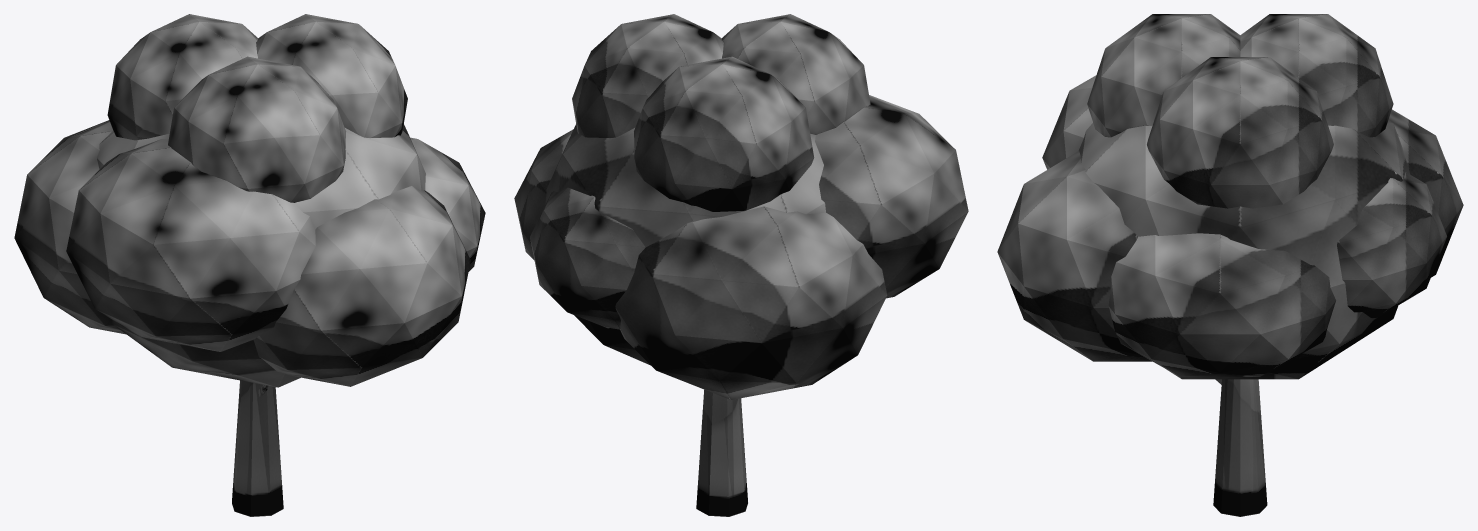
Rendered from tree_oak_xl.glb.
3 views of the same model, side by side, from view 1: azimuth 30°, elevation 25°; view 2: azimuth 150°, elevation 25°; view 3: azimuth 270°, elevation 25° (orthographic).
Visible parts, largest first — view 1: tree_oak_xl; view 2: tree_oak_xl; view 3: tree_oak_xl.
Part boxes in pixels (left/top/right/bottom): tree_oak_xl: left=14, top=14, right=485, bottom=516; tree_oak_xl: left=514, top=14, right=968, bottom=516; tree_oak_xl: left=997, top=14, right=1463, bottom=516.
Size of the model in its own units: 6.79 by 7.72 by 6.9.
Materials: 1 (1 with a texture image).
